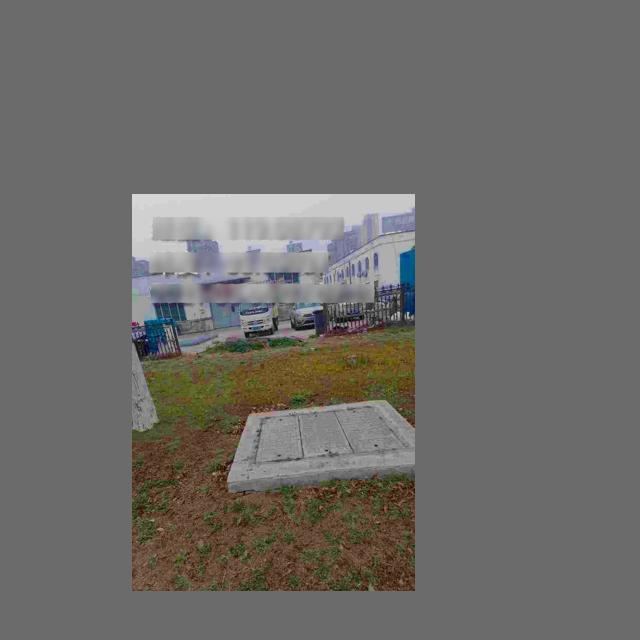good: (248, 404, 414, 466)
